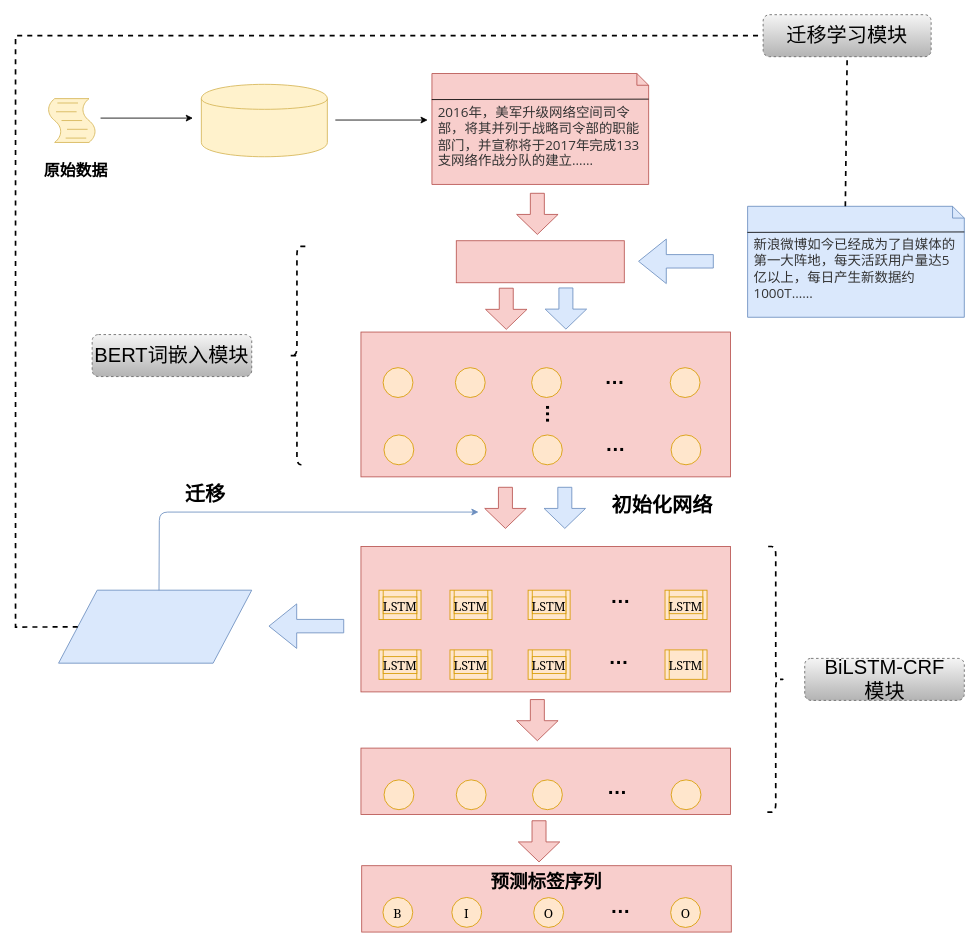
The diagram is 979 pixels wide and 948 high, and some of its shapes have lost their labels. The shapes that lost their labels are listed below. From the top down, each one's box as (x1, y1, x2, y2) in pixels, then its label:
(201, 83, 327, 157): 自标注平台
(431, 73, 649, 184): 目标域数据
(455, 240, 624, 283): 数据序列化
(747, 205, 964, 317): 源域数据
(360, 331, 731, 477): BERT Embedding
(58, 589, 252, 663): 源域模型参数
(360, 546, 731, 692): BiLSTM
(360, 747, 731, 814): CRF
